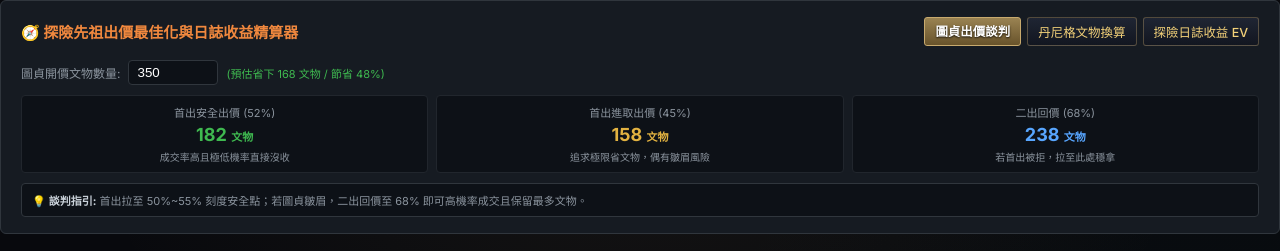
Test case: ExpeditionOptimizerCard › should switch to Dannig exchange tab and show arbitrage
This screenshot has width=1280, height=251.
Click the button "丹尼格文物換算". click: (1082, 32)
box: top-left (1027, 17), bottom-right (1136, 46)
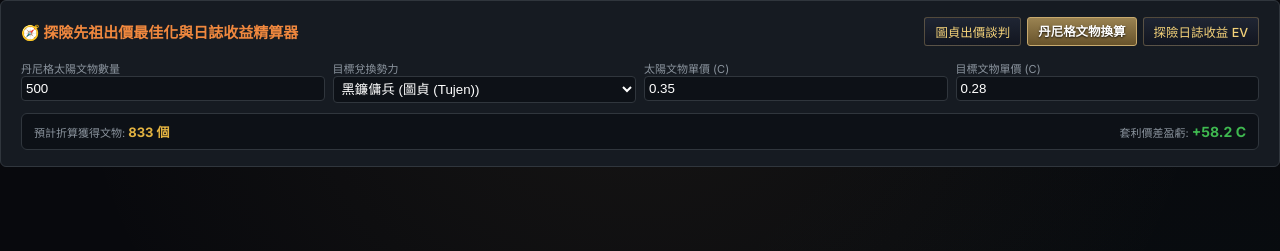
Expected: the text "丹尼格太陽文物數量" is shown, top-left (21, 62), bottom-right (120, 76)
Expected: the text "套利價差盈虧:" is shown, top-left (1120, 126), bottom-right (1192, 140)
